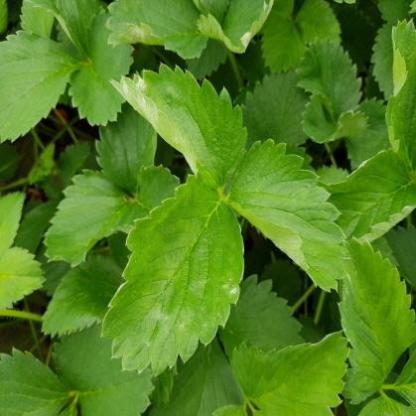Strawberry_Powdery_Mildew_Leaf: (98, 174, 245, 377), (110, 62, 249, 194), (195, 0, 274, 56)
